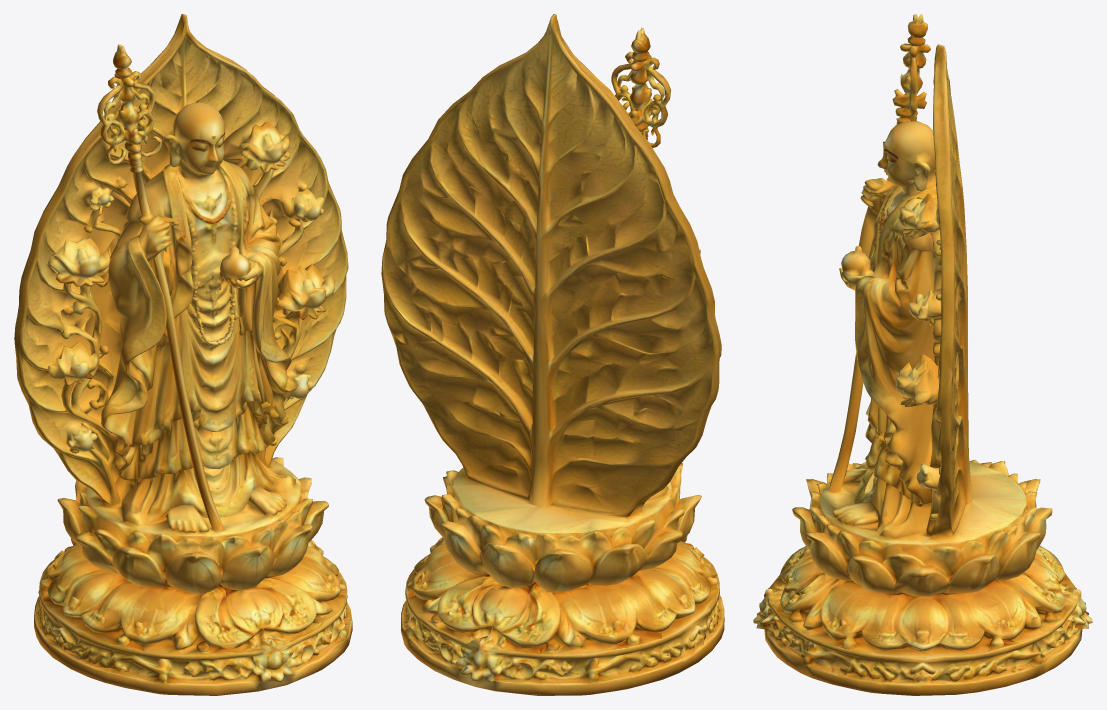
3 renders of one model, left to right at view 1: azimuth 30°, elevation 25°; view 2: azimuth 150°, elevation 25°; view 3: azimuth 270°, elevation 25°, orthographic. The views are drawn at different scales.
Visible parts, largest first — view 1: four-heavenly-kings-03; view 2: four-heavenly-kings-03; view 3: four-heavenly-kings-03.
Boxes of the visible parts, box(x1,y1,x2,y2) form: four-heavenly-kings-03: box(14, 14, 352, 695); four-heavenly-kings-03: box(381, 14, 724, 695); four-heavenly-kings-03: box(753, 14, 1092, 695).
Size of the model in its own units: 0.5702 by 0.9994 by 0.5229.
1 material, 1 textured.
